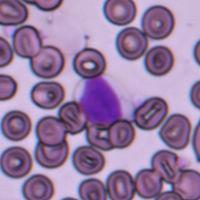L: (75, 74, 127, 126)
